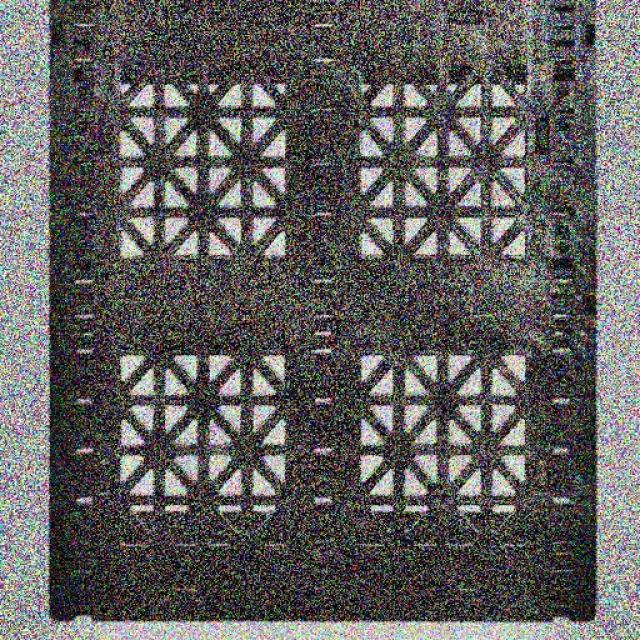non-igps: (34, 0, 609, 628)
